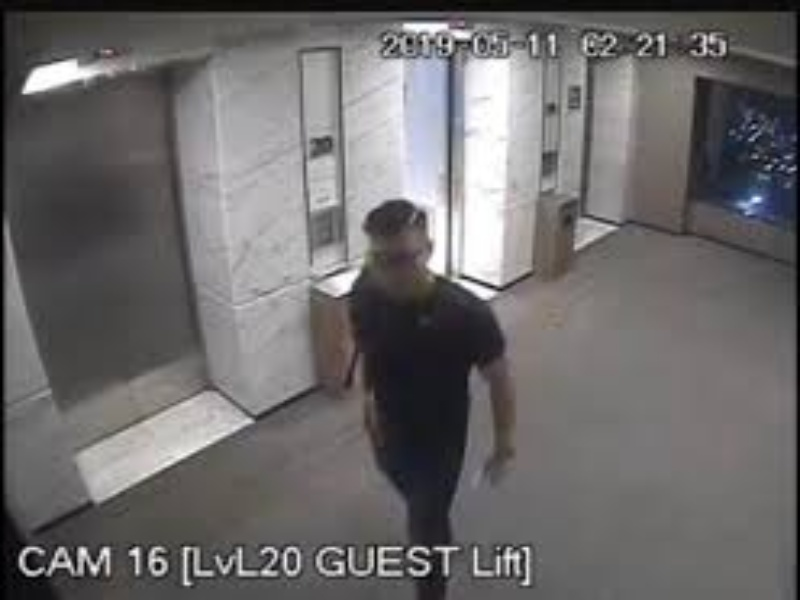person: (341, 198, 532, 600)
